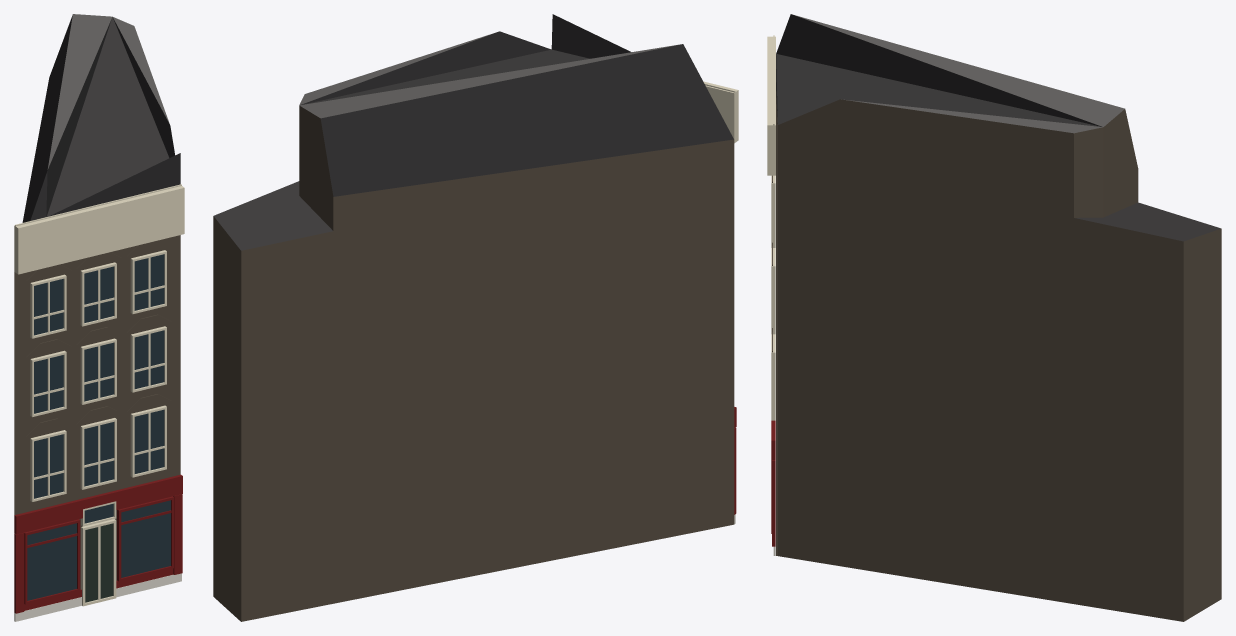
3 views of the same model, side by side, from view 1: azimuth 30°, elevation 25°; view 2: azimuth 150°, elevation 25°; view 3: azimuth 270°, elevation 25° (orthographic). The views are drawn at different scales.
Visible parts, largest first — view 1: spec-0363100012181818; view 2: spec-0363100012181818; view 3: spec-0363100012181818.
Boxes of the visible parts, x1,y1,x2,y2 form: spec-0363100012181818: (14,14,184,621); spec-0363100012181818: (213,14,738,621); spec-0363100012181818: (767,14,1221,621).
Bounding box in the file's own units: 10.52 × 15.1 × 13.08.
